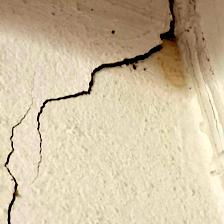High: (2, 1, 187, 224)
